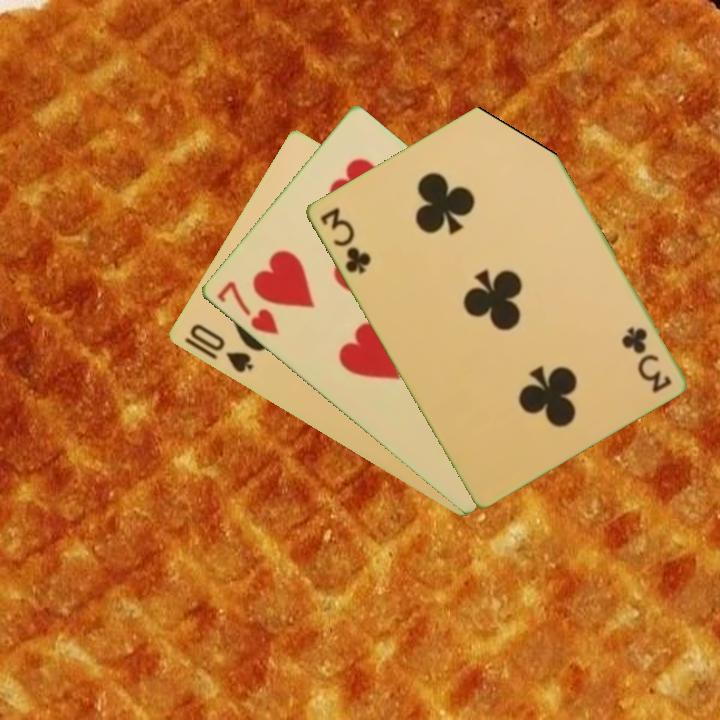10s: (185, 320, 256, 376)
3c: (316, 203, 373, 277), (619, 323, 674, 396)
7h: (213, 277, 282, 338)
